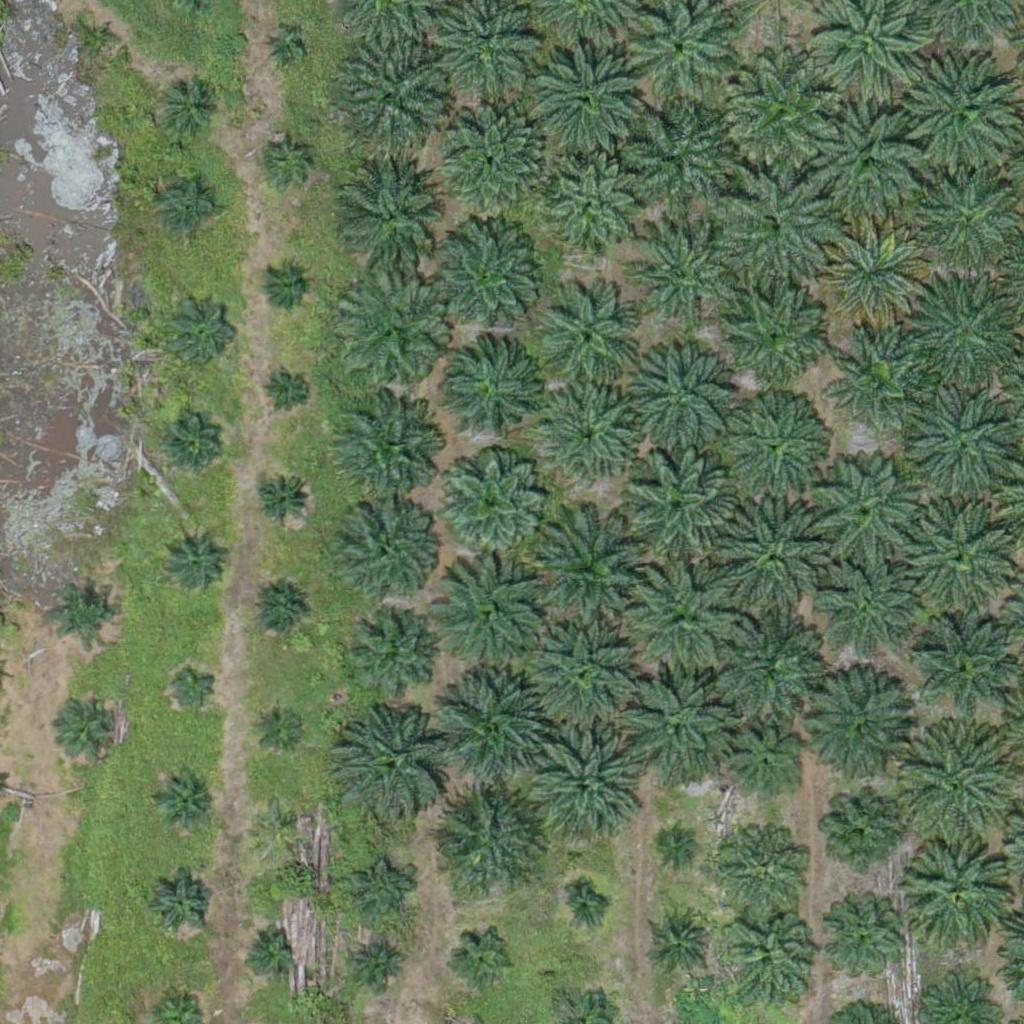Kelapa_Sawit: (531, 508, 656, 634), (329, 702, 454, 828), (526, 616, 639, 730), (436, 561, 549, 675), (434, 446, 547, 560), (338, 278, 451, 392), (896, 833, 1009, 946), (799, 673, 912, 786), (717, 501, 830, 614), (703, 602, 816, 715), (524, 725, 637, 838), (437, 667, 550, 780), (428, 782, 541, 895), (902, 54, 1015, 167), (336, 39, 449, 152), (336, 154, 449, 267), (619, 102, 732, 215), (723, 55, 836, 168), (817, 220, 930, 333), (814, 453, 927, 566), (719, 173, 832, 286), (715, 278, 828, 391), (428, 223, 541, 336), (617, 662, 729, 776), (331, 397, 443, 511), (899, 723, 1011, 836), (628, 560, 740, 673), (904, 273, 1016, 386), (904, 384, 1016, 497), (903, 496, 1015, 609), (531, 40, 643, 153), (810, 104, 922, 217), (627, 218, 739, 331), (623, 450, 735, 563), (913, 620, 1013, 721), (446, 106, 546, 207), (543, 160, 643, 261), (725, 398, 825, 499), (632, 343, 732, 444), (540, 292, 640, 393), (337, 495, 437, 596), (541, 385, 641, 485), (445, 339, 545, 439), (717, 823, 805, 911), (725, 917, 813, 1005), (347, 612, 435, 700), (835, 335, 922, 424), (822, 567, 909, 655), (825, 793, 900, 869), (827, 908, 902, 984), (723, 726, 798, 802), (165, 291, 240, 366), (63, 695, 126, 758), (52, 579, 115, 642), (161, 418, 224, 481), (150, 767, 213, 830), (150, 872, 213, 935), (251, 468, 314, 531), (161, 78, 223, 141), (160, 175, 222, 238), (162, 529, 224, 592), (350, 859, 412, 922), (454, 928, 516, 991), (248, 580, 310, 643), (263, 135, 313, 186), (356, 937, 406, 988), (254, 697, 304, 748), (253, 794, 303, 845), (243, 923, 293, 974), (169, 659, 219, 710), (259, 259, 309, 310), (654, 916, 704, 966), (263, 367, 313, 417), (662, 827, 700, 865), (82, 21, 120, 59), (265, 30, 303, 68), (567, 889, 604, 927)
